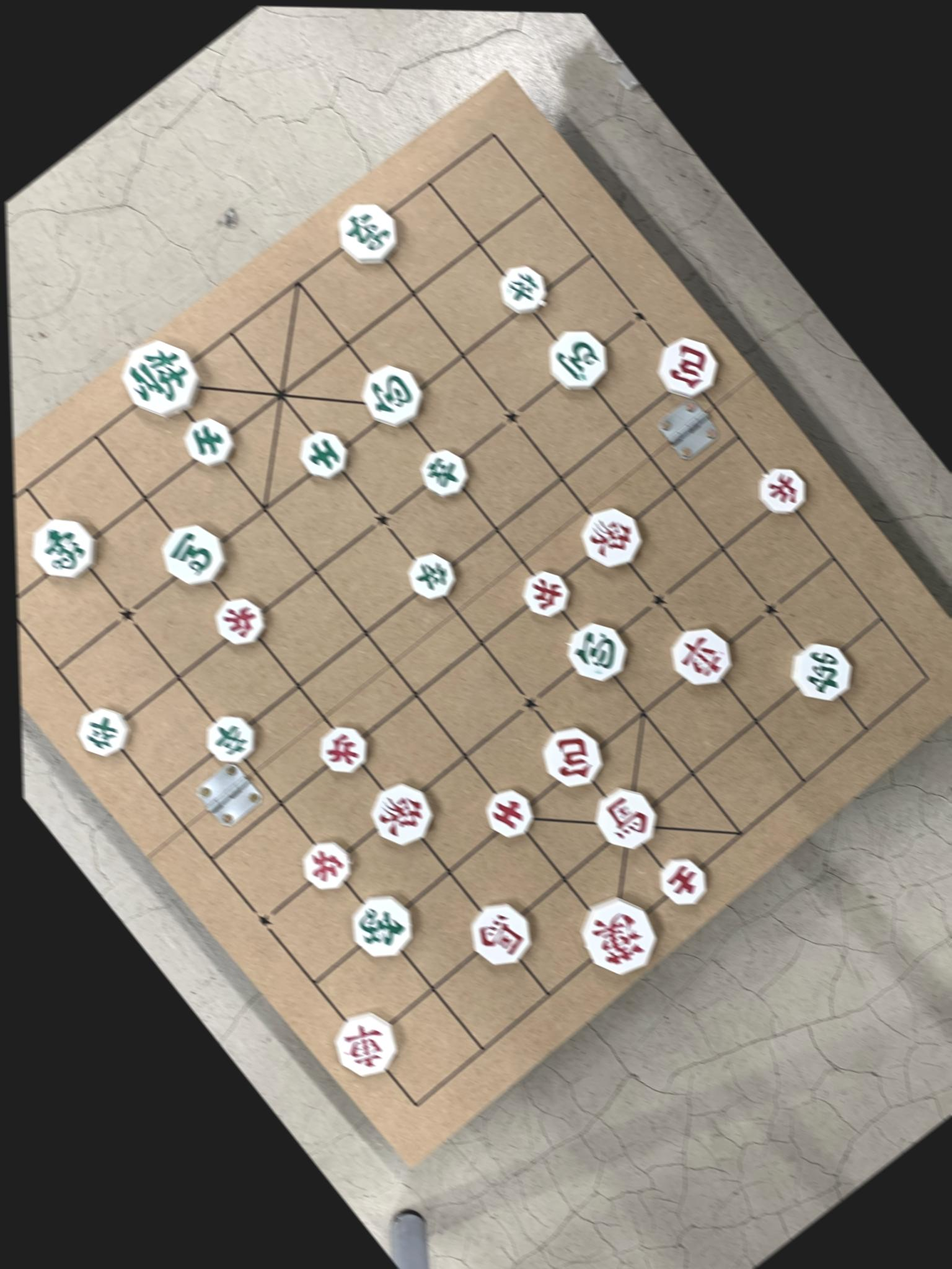cha_green: (325, 190, 410, 274), (782, 630, 865, 711)
cha_red: (323, 1003, 410, 1088), (658, 615, 739, 695)
jol_green: (487, 255, 558, 323), (68, 696, 137, 764), (410, 439, 475, 503), (399, 545, 464, 609), (199, 706, 261, 766)
jol_red: (200, 584, 276, 657), (290, 830, 363, 900), (307, 712, 379, 782), (749, 457, 814, 522), (512, 560, 576, 623)
ma_green: (148, 509, 237, 597), (534, 315, 620, 400)
ma_red: (457, 889, 545, 975), (583, 777, 669, 860)
po_green: (348, 353, 434, 437), (556, 612, 637, 692)
po_red: (646, 326, 726, 405), (531, 716, 610, 794)
sa_green: (174, 407, 244, 476), (291, 423, 358, 488)
sa_red: (476, 779, 542, 844), (649, 846, 714, 911)
sang_green: (17, 504, 108, 592), (338, 882, 426, 968)
sang_red: (566, 492, 656, 581), (356, 771, 445, 857)
wang_green: (105, 323, 214, 430)
wang_red: (565, 883, 669, 986)
